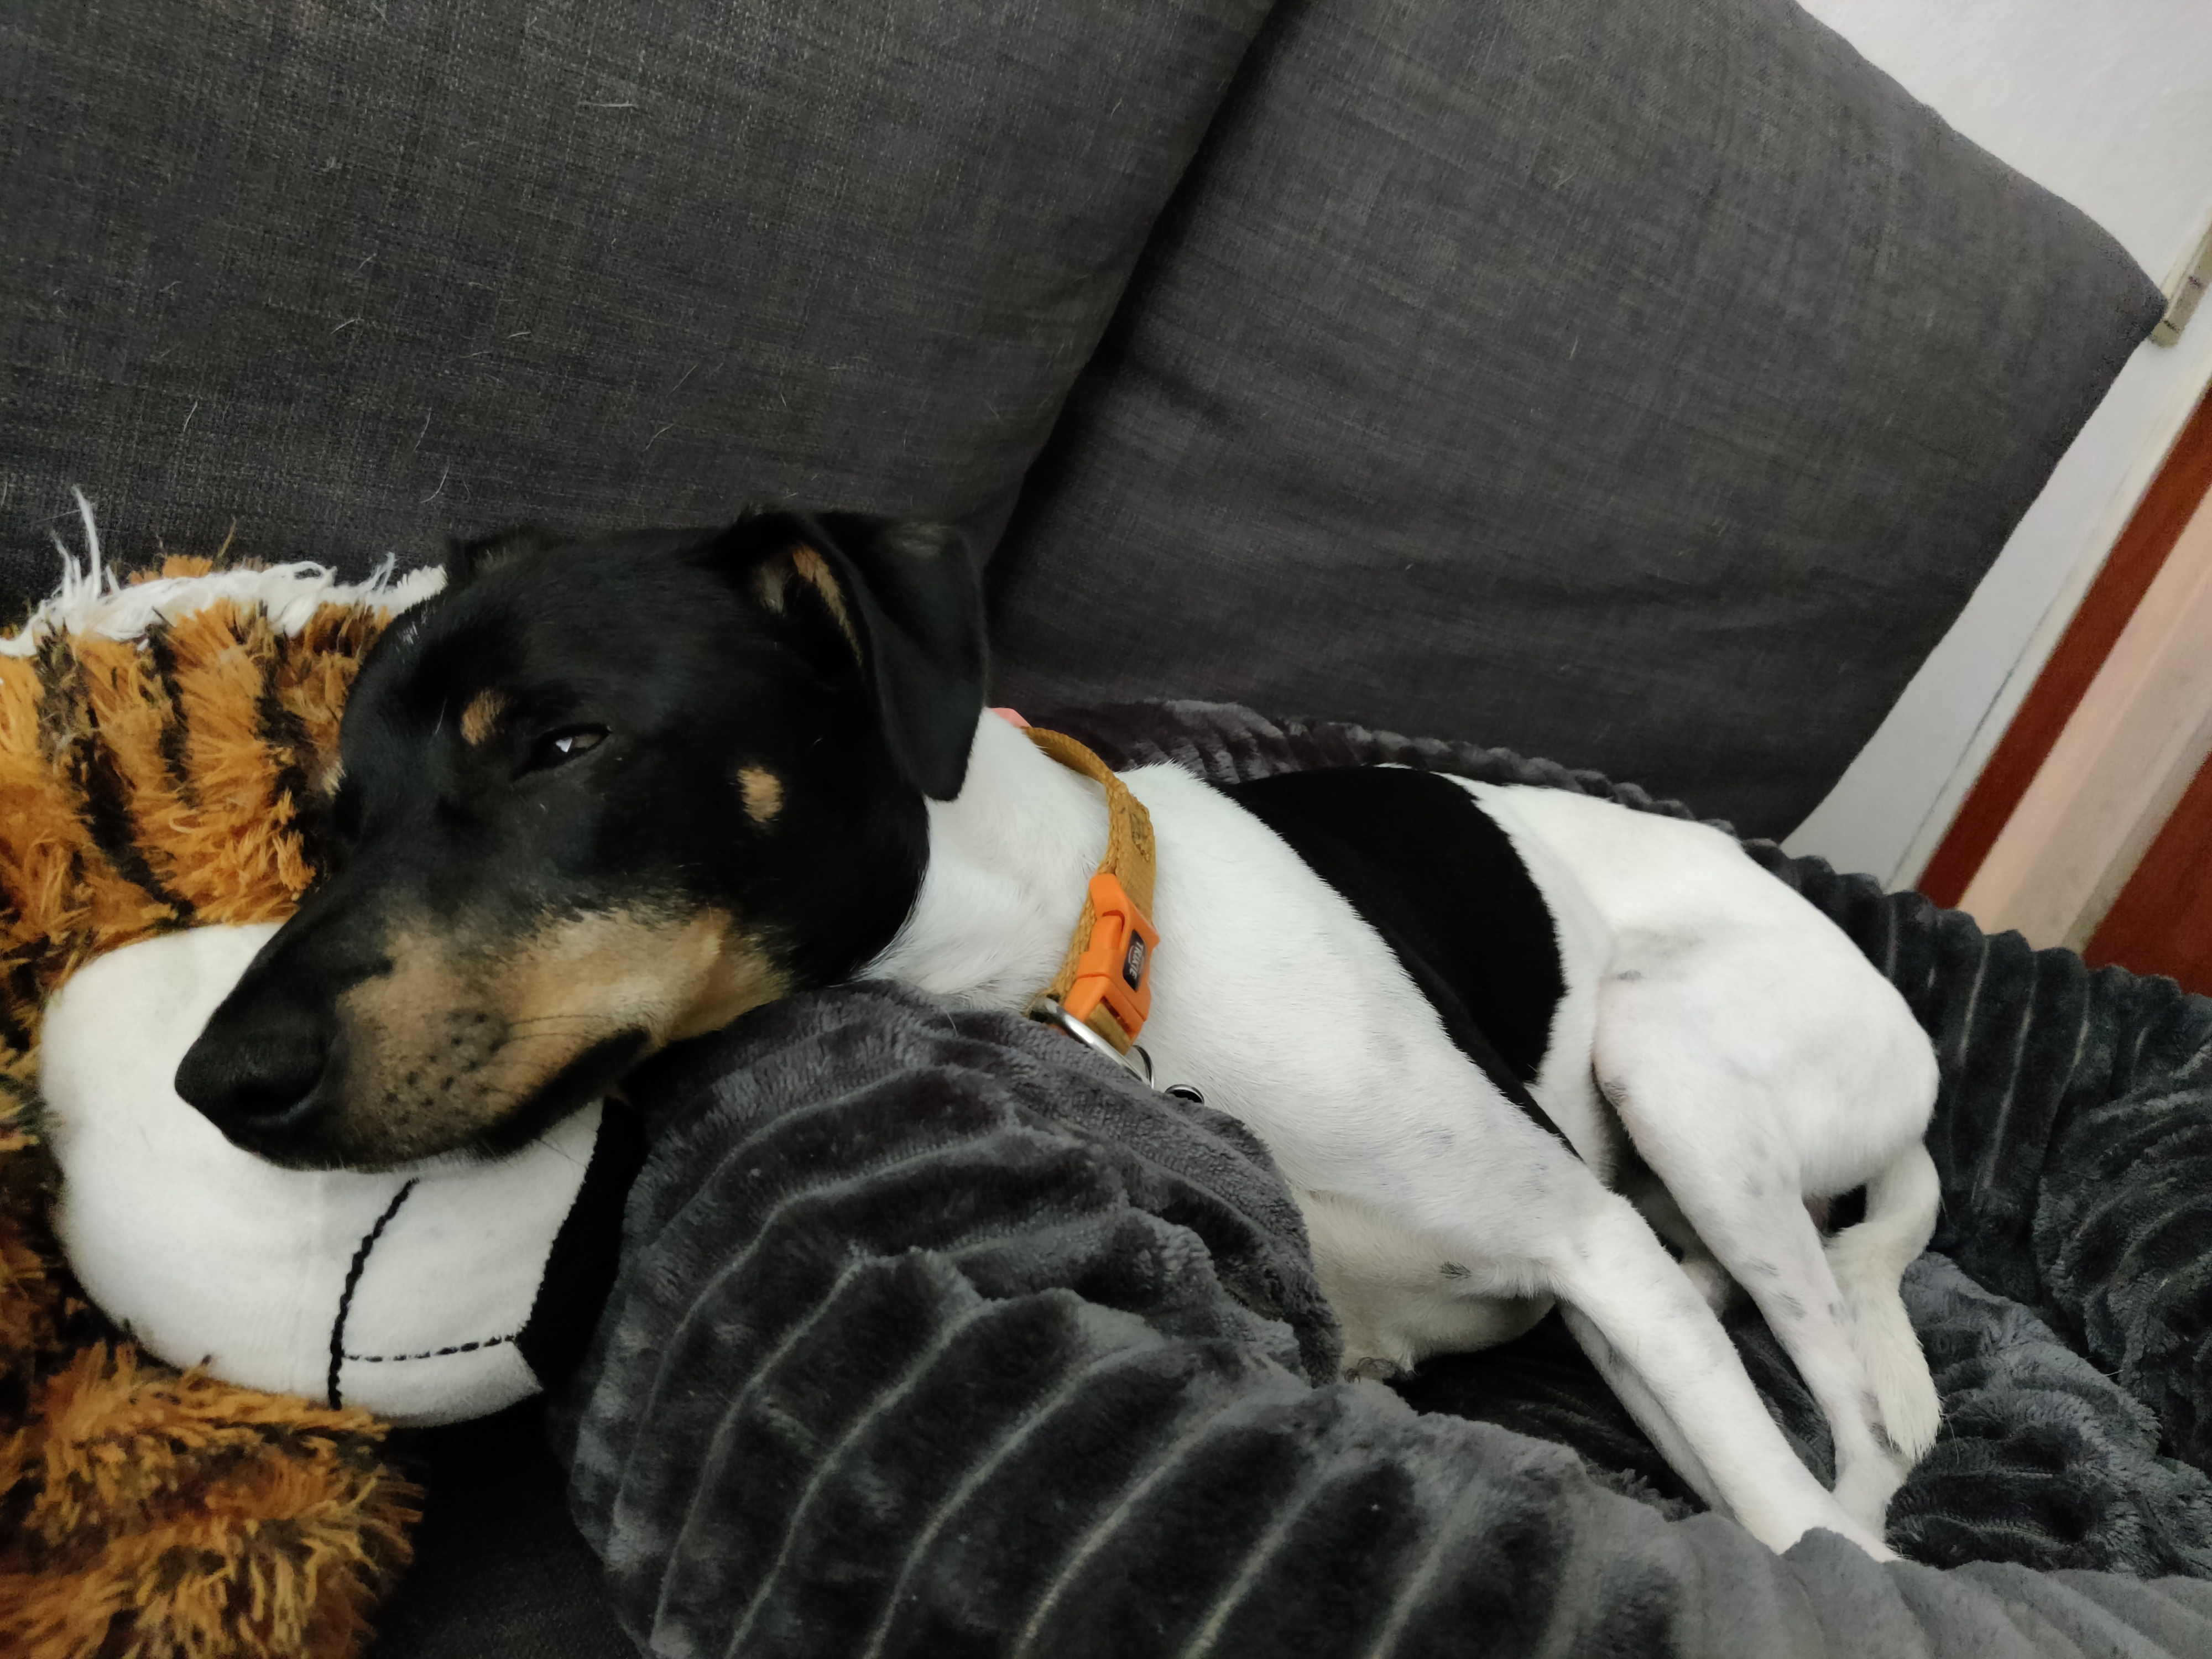Dog: (141, 469, 1963, 1584)
